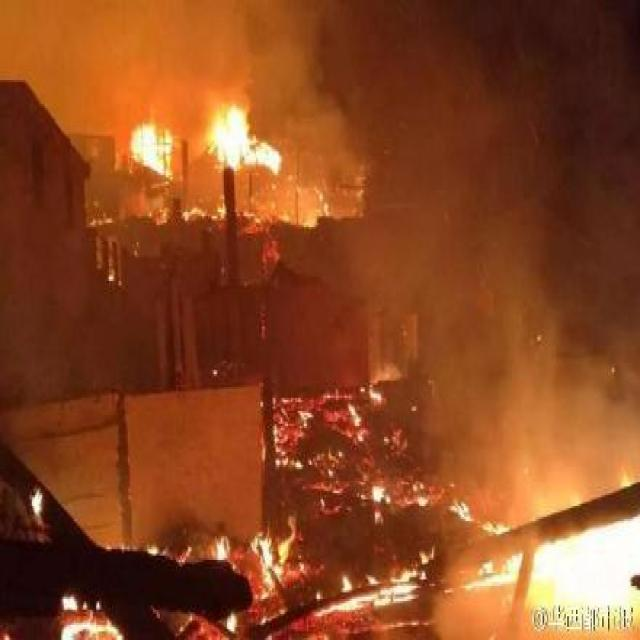fire: (274, 381, 637, 633), (141, 519, 312, 624), (122, 96, 288, 181), (57, 575, 115, 636)
smoke: (330, 0, 637, 342)
